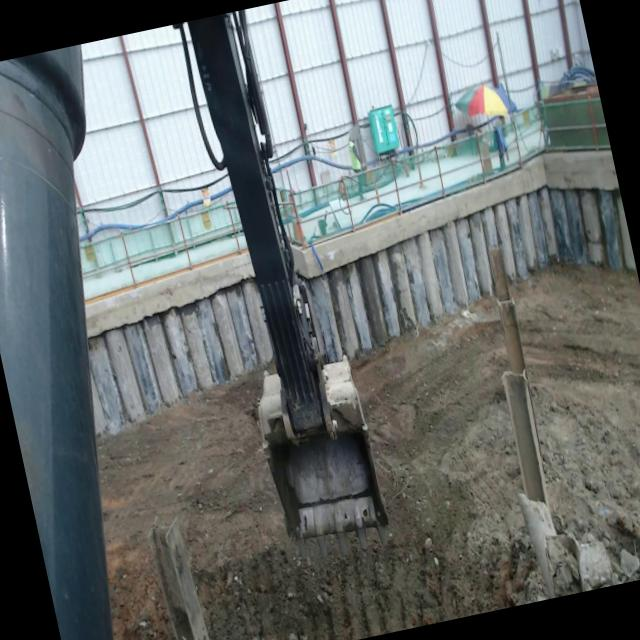white-sand: (98, 299, 536, 640), (512, 267, 640, 575)
